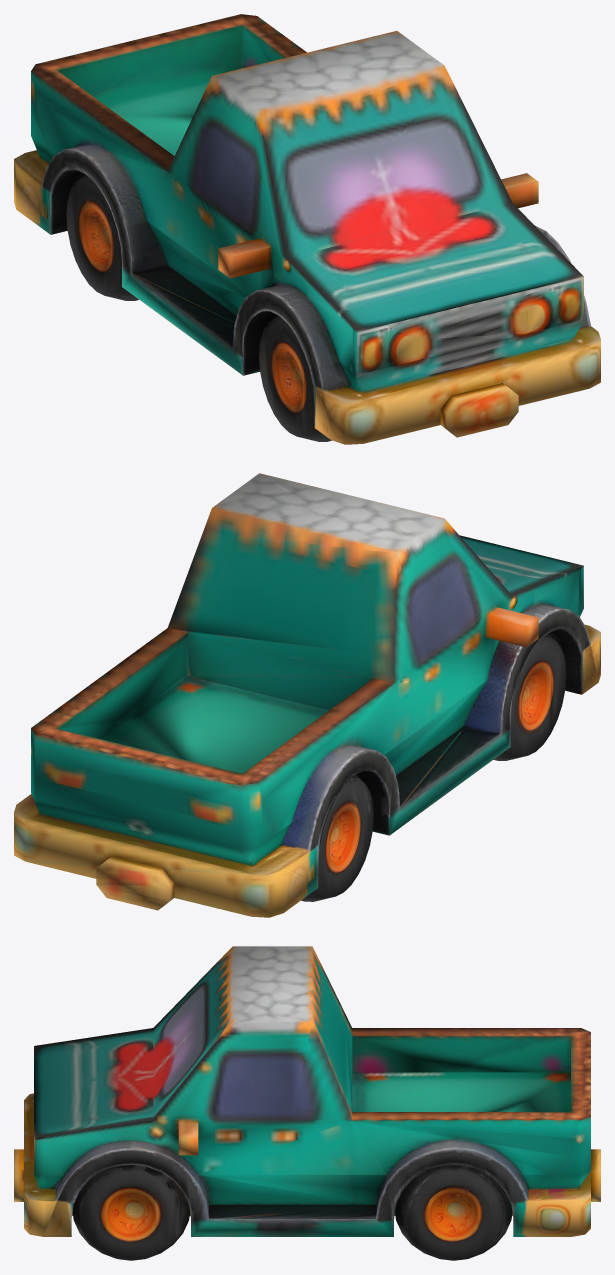
File: truck.glb
3 views of the same model, one above another, from view 1: azimuth 30°, elevation 25°; view 2: azimuth 150°, elevation 25°; view 3: azimuth 270°, elevation 25° (orthographic). The views are drawn at different scales.
Visible parts, largest first — view 1: Mesh_0; view 2: Mesh_0; view 3: Mesh_0.
Boxes of the visible parts, <box> form: Mesh_0: <box>14,14,600,444</box>; Mesh_0: <box>14,473,600,917</box>; Mesh_0: <box>14,946,600,1260</box>.
Size of the model in its own units: 2.31 by 2 by 4.54.
Materials: 1 (1 with a texture image).
